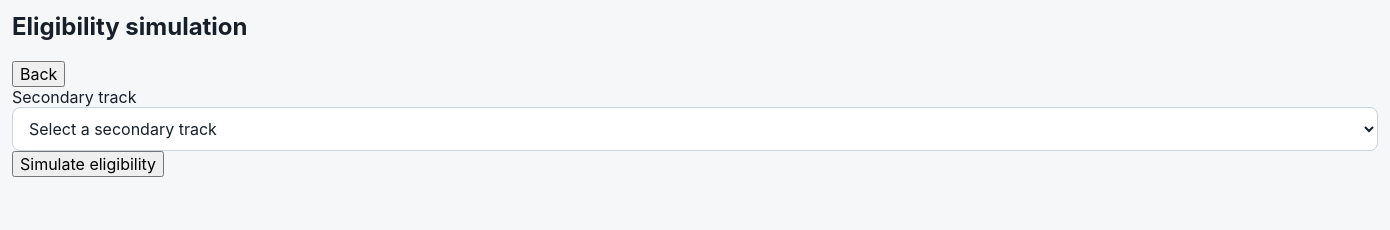
displays an incomplete-data warning for partial secondary track information
The width and height of the screenshot is (1390, 230).
Select "Science and Technology" in the dropdown labelled "Secondary track": coordinates (695, 129) [12, 107, 1378, 151]
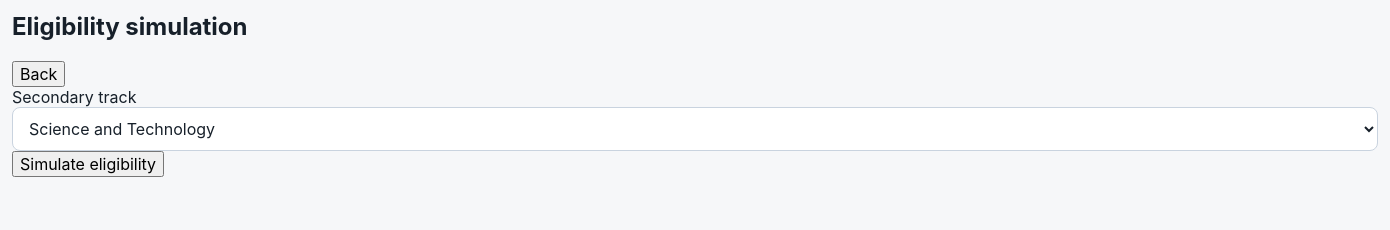
Click the button "Simulate eligibility": coordinates (88, 164) [12, 151, 164, 177]
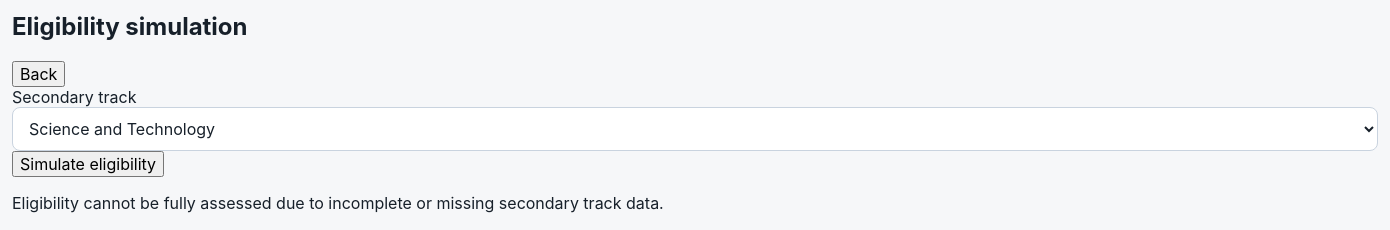
Check: the text "Eligibility cannot be fully assessed due to incomplete or missing secondary track data." is shown, box [12, 193, 664, 213]
